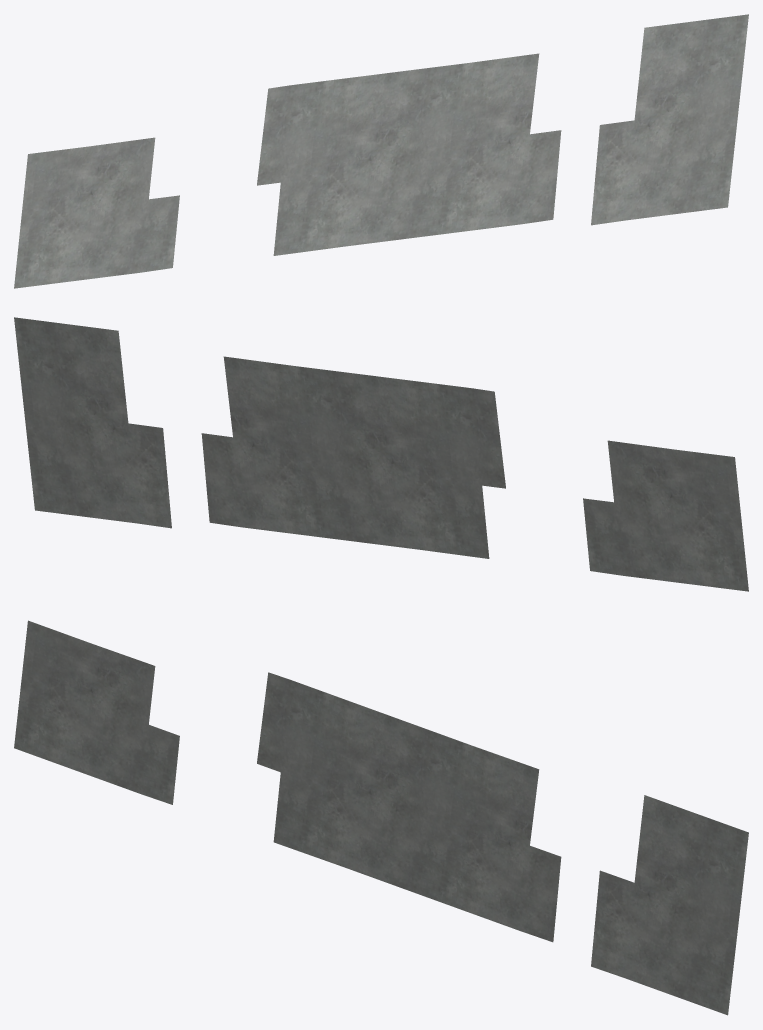
The model's file is data21.obj.
3 views of the same model, one above another, from view 1: azimuth 30°, elevation 25°; view 2: azimuth 150°, elevation 25°; view 3: azimuth 330°, elevation 25° (orthographic).
Parts seen in each view (by area): view 1: data21; view 2: data21; view 3: data21.
Part boxes in pixels (x1=…): data21: x1=14, y1=14, x2=748, y2=288; data21: x1=14, y1=317, x2=748, y2=591; data21: x1=14, y1=620, x2=748, y2=1015.
Bounding box in the file's own units: 52.4 × 15.74 × 9.92e-05.
Materials: 1 (1 with a texture image).
